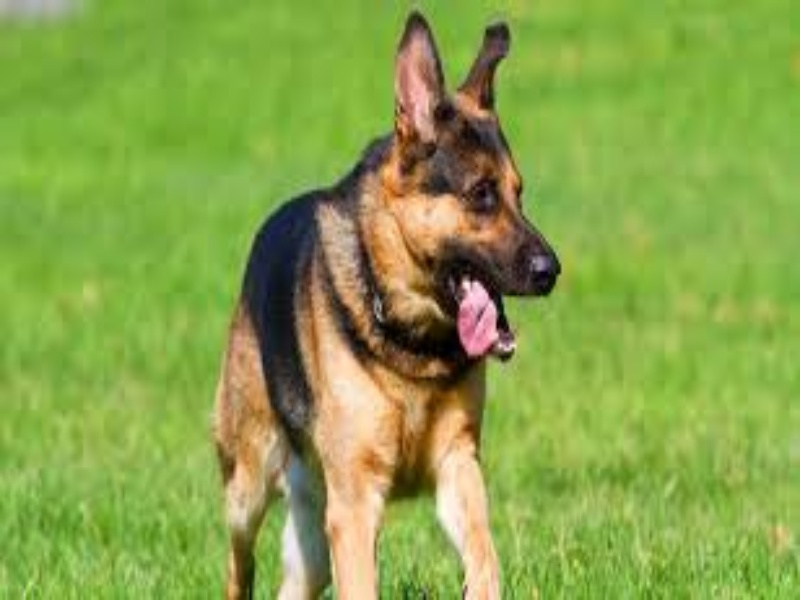dog: (209, 8, 565, 600)
